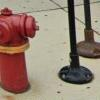a fire hydrant: (0, 8, 31, 94)
